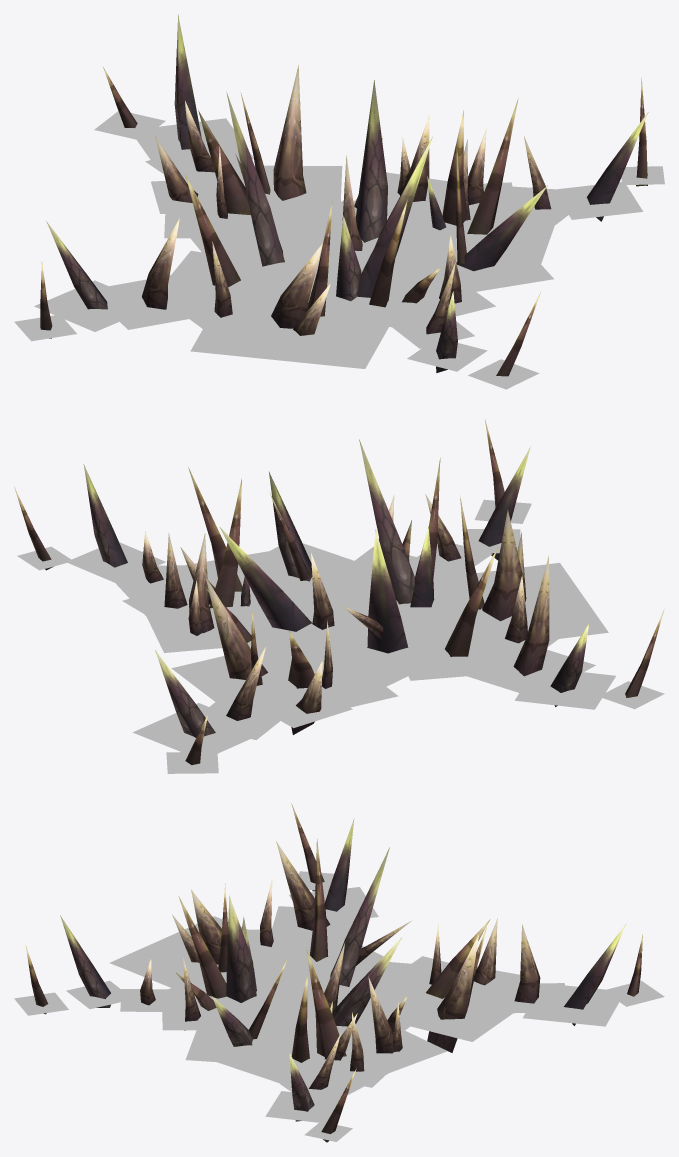
The model's file is shachendici.FBX.
3 views of the same model, one above another, from view 1: azimuth 30°, elevation 25°; view 2: azimuth 150°, elevation 25°; view 3: azimuth 270°, elevation 25° (orthographic). The views are drawn at different scales.
Parts seen in each view (by area): view 1: 4_2, 1_2, 4_3, 4_1, 1_3, 1_1; view 2: 4_2, 1_2, 4_3, 4_1, 1_3, 1_1; view 3: 4_2, 1_2, 4_3, 1_3, 4_1, 1_1.
Part boxes in pixels (x1,y1,x2,y2): 4_2: (151, 165, 567, 368); 1_2: (155, 65, 547, 335); 4_3: (14, 111, 664, 389); 4_1: (188, 201, 445, 328); 1_3: (40, 14, 648, 376); 1_1: (226, 80, 432, 301); 4_2: (110, 543, 608, 728); 1_2: (164, 458, 527, 734); 4_3: (17, 499, 664, 773); 4_1: (211, 569, 490, 688); 1_3: (14, 419, 663, 764); 1_1: (220, 439, 434, 653); 4_2: (110, 916, 525, 1101); 1_2: (172, 839, 497, 1071); 4_3: (14, 871, 664, 1141); 1_3: (25, 803, 642, 1142); 4_1: (165, 955, 435, 1055); 1_1: (226, 847, 410, 1026).
Size of the model in its own units: 13.58 by 3.81 by 13.79.
